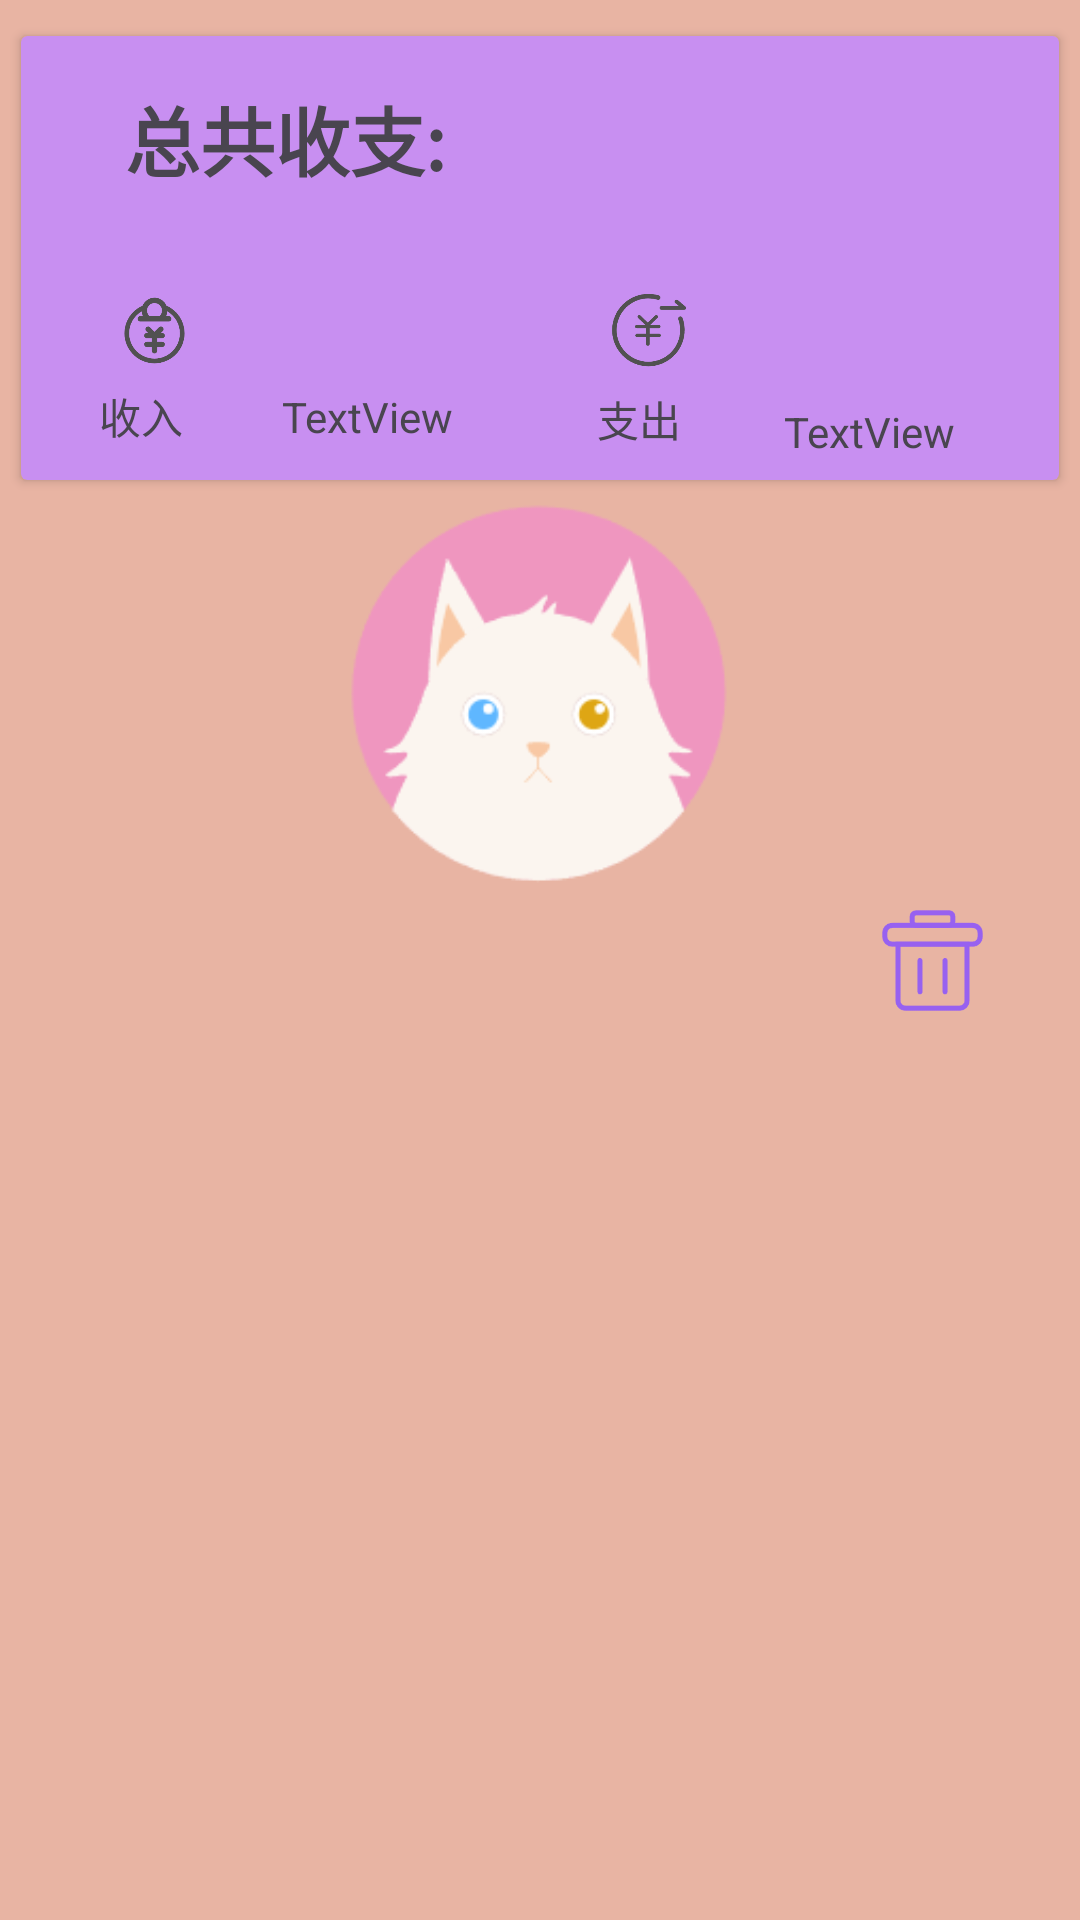

Where icons sit on this 1080x1920 app screen, as (x1, y1, x2, y2):
delete: (882, 910, 983, 1011)
